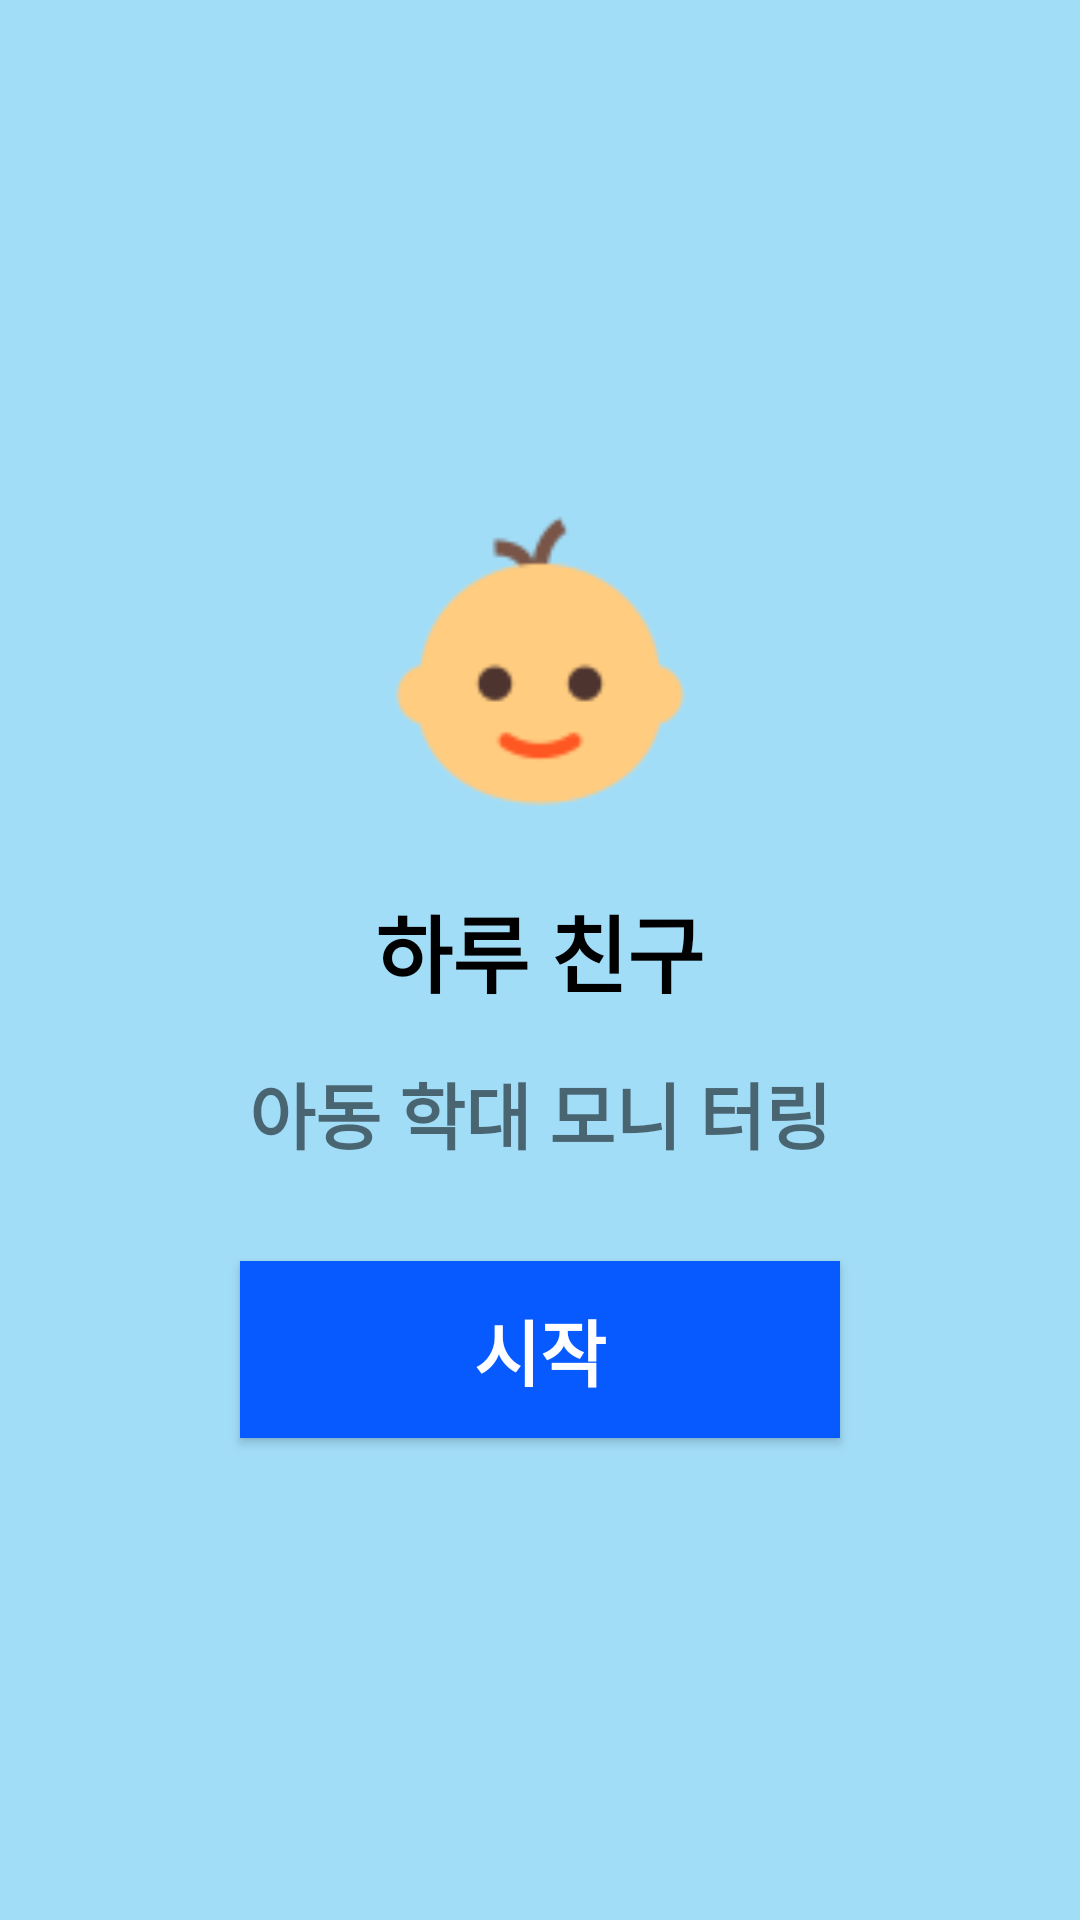

Screen size 1080x1920. Icon name, then its center in pixels as point (x, y):
baby: point (540, 661)
